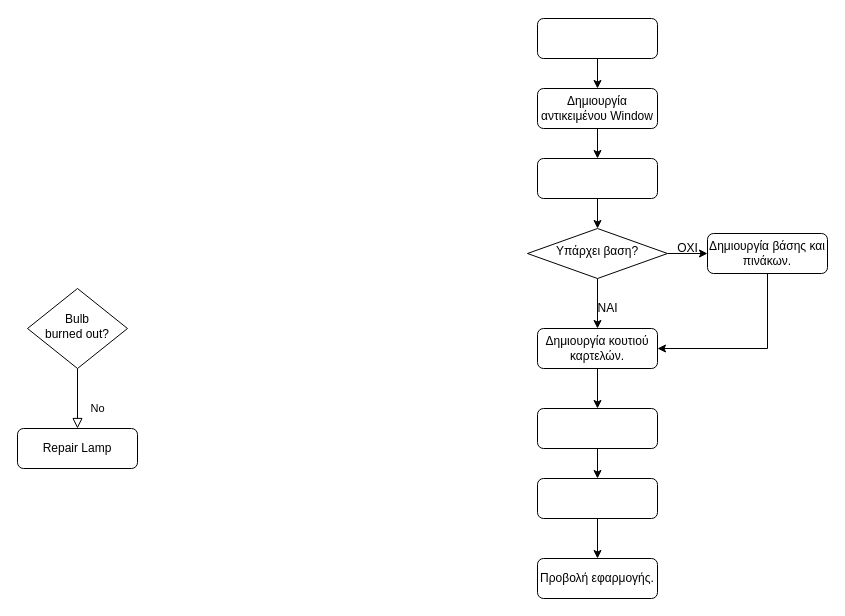
Image size: 845x616. Some labels were removed from this diagram. The centre of each missing label's shape, as x and y in pixels:
Αρχικοποίηση κουμπιών-μπάρα αναζήτησης.: (x=597, y=428)
Αρχικοποίηση σύνδεσης βάσης δεδομένων: (x=597, y=178)
Δημιουργία αντικειμένου QApplication: (x=597, y=38)
Προσθήκη της αρχικής καρτέλας.: (x=597, y=498)
